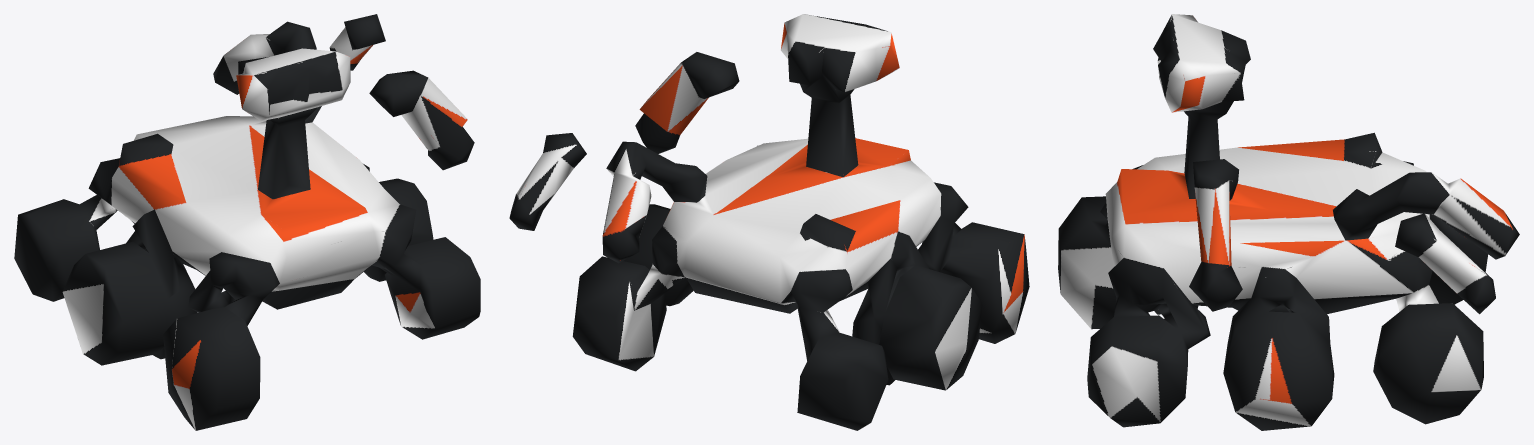
The model's file is rover.glb.
3 renders of one model, left to right at view 1: azimuth 30°, elevation 25°; view 2: azimuth 150°, elevation 25°; view 3: azimuth 270°, elevation 25°, orthographic. The views are drawn at different scales.
Parts seen in each view (by area): view 1: BakeLow; view 2: BakeLow; view 3: BakeLow.
Boxes of the visible parts, bbox=[...] form: BakeLow: bbox=[14, 14, 480, 430]; BakeLow: bbox=[509, 14, 1029, 430]; BakeLow: bbox=[1058, 14, 1519, 430].
Size of the model in its own units: 1.6 by 1.29 by 1.58.
1 material, 1 textured.
